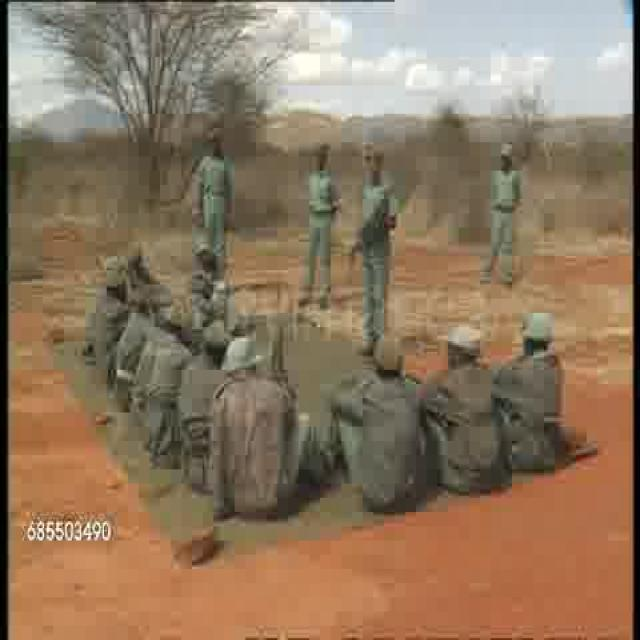poacher: (205, 334, 300, 534), (331, 336, 428, 508), (506, 316, 598, 446), (440, 316, 504, 496), (350, 140, 400, 358), (190, 123, 240, 281), (478, 132, 526, 294), (297, 140, 339, 313), (192, 320, 230, 490)
